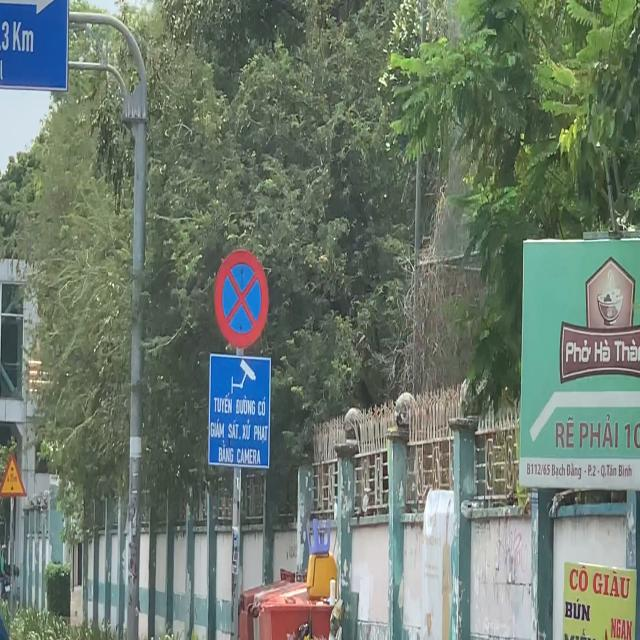Cam dung va do: (214, 249, 270, 349)
Nguy hiem: (0, 455, 27, 497)
